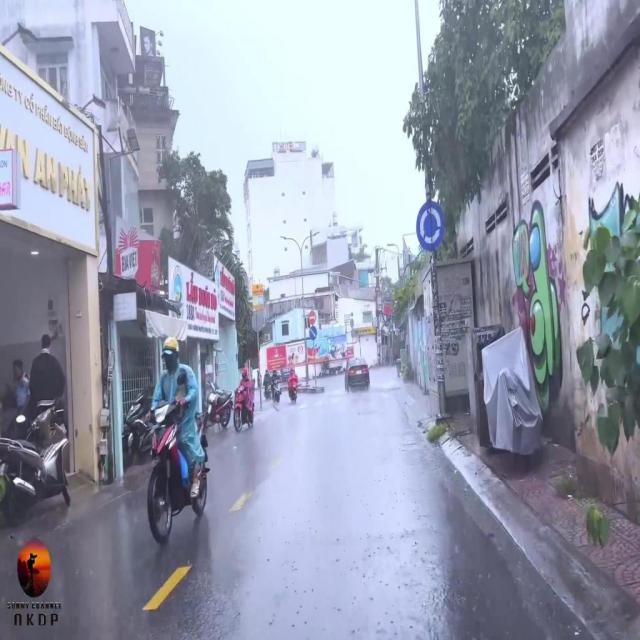cam_xe_di_nguoc_chieu: (308, 308, 318, 324)
huong_phai_di_vuot_chuong_ngai_vat_phai: (310, 326, 317, 341)
noi_giao_nhau_chay_theo_vong: (416, 200, 445, 252)
